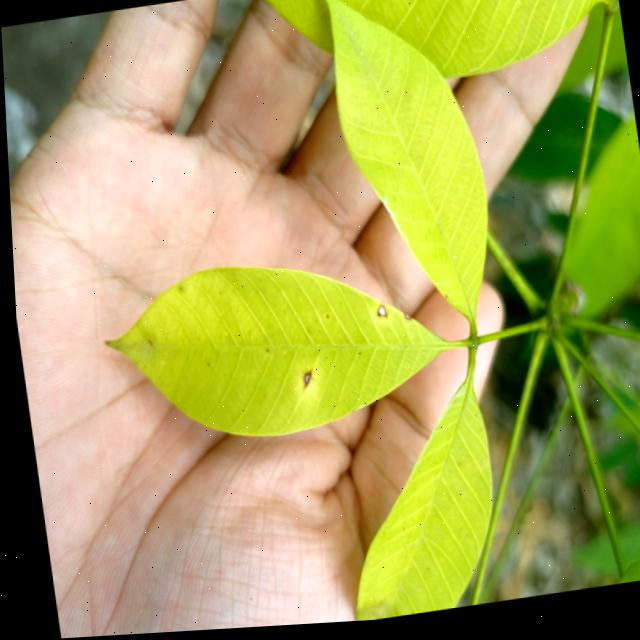Colletotrichum: (371, 309, 382, 322), (297, 375, 307, 388)
